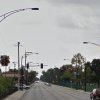Tree: (44, 53, 100, 90)
